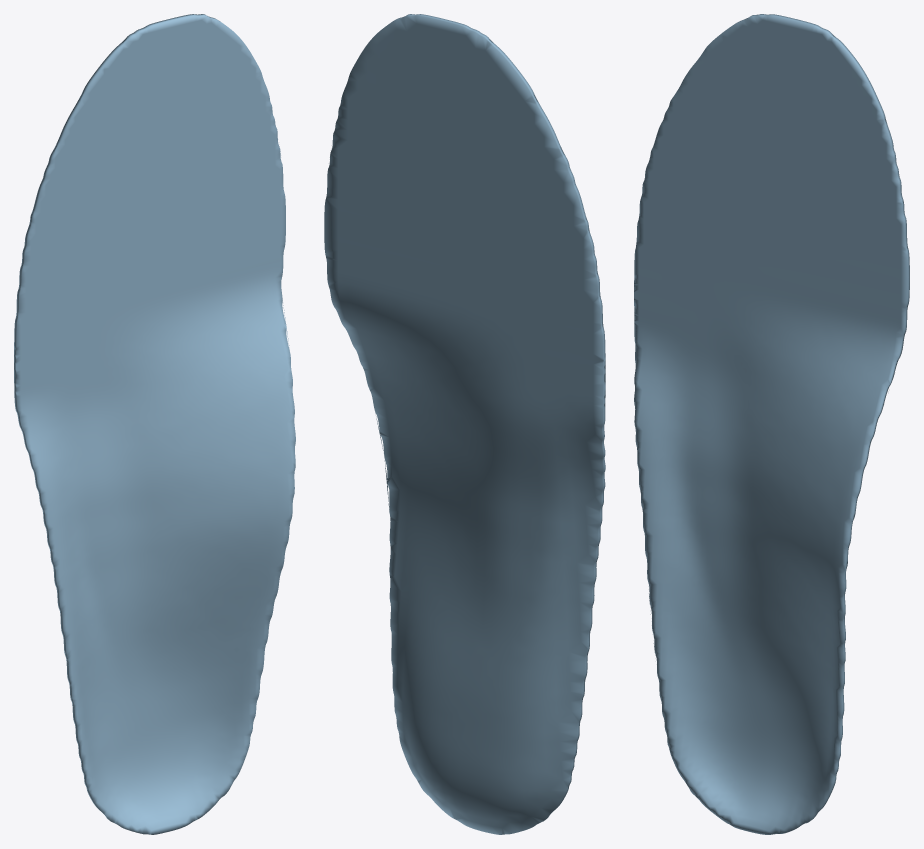
File: PAIR-TOP-COVER_T13_addon.glb
3 renders of one model, left to right at view 1: azimuth 30°, elevation 25°; view 2: azimuth 150°, elevation 25°; view 3: azimuth 330°, elevation 25°, orthographic. The views are drawn at different scales.
Parts seen in each view (by area): view 1: geometry_0; view 2: geometry_0; view 3: geometry_0.
Boxes of the visible parts, <box> form: geometry_0: <box>14,14,295,834</box>; geometry_0: <box>324,14,605,834</box>; geometry_0: <box>634,14,909,834</box>.
Size of the model in its own units: 99.51 by 280 by 23.23.
